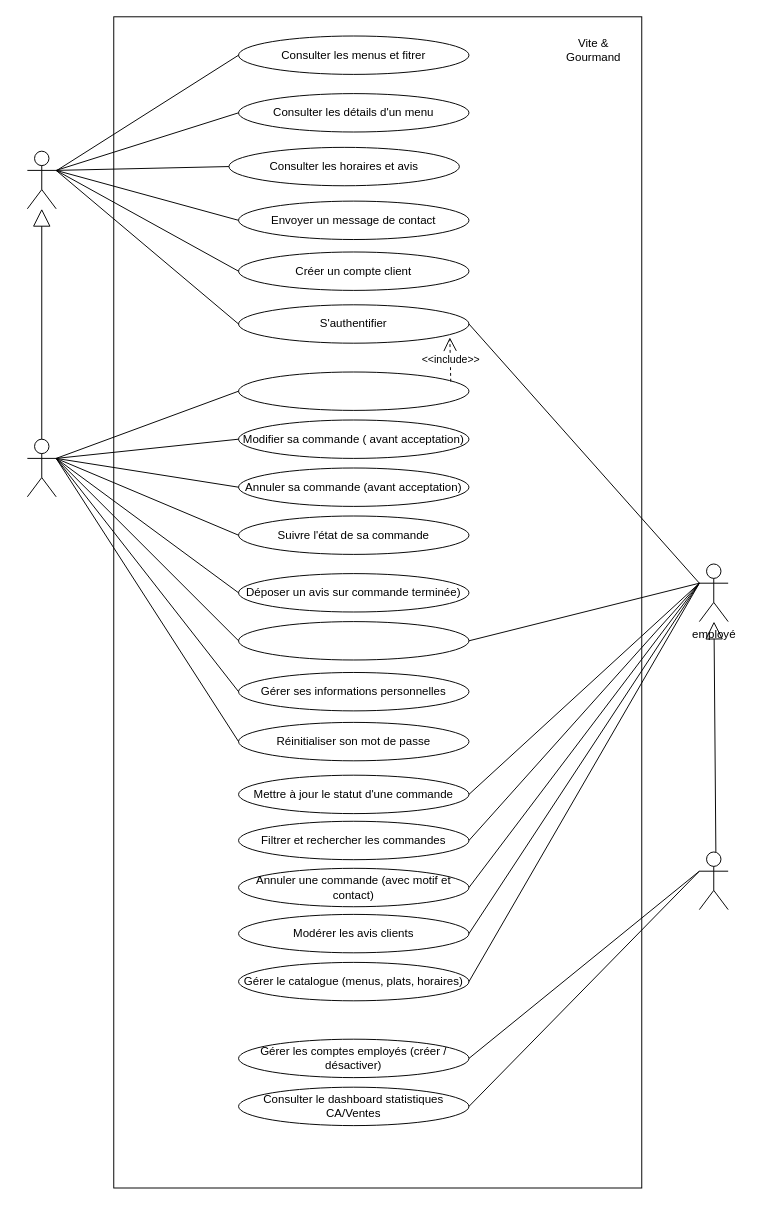
This 767x1205 diagram has some shape labels left out. The centre of each missing label's shape, as x and y in pixels:
Administrateur: the point at 713,880
Passer une commande: the point at 353,390
Se déconnecter: the point at 353,640
Utilisateur: the point at 41,467
Visiteur: the point at 41,179
